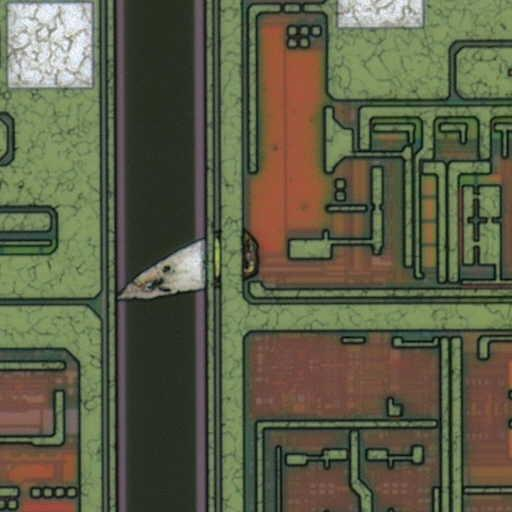BLOCK ETCH: (111, 223, 262, 307)
